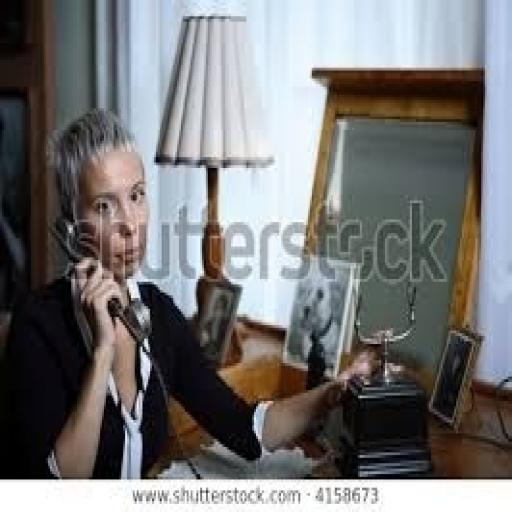calling: (0, 106, 381, 480)
